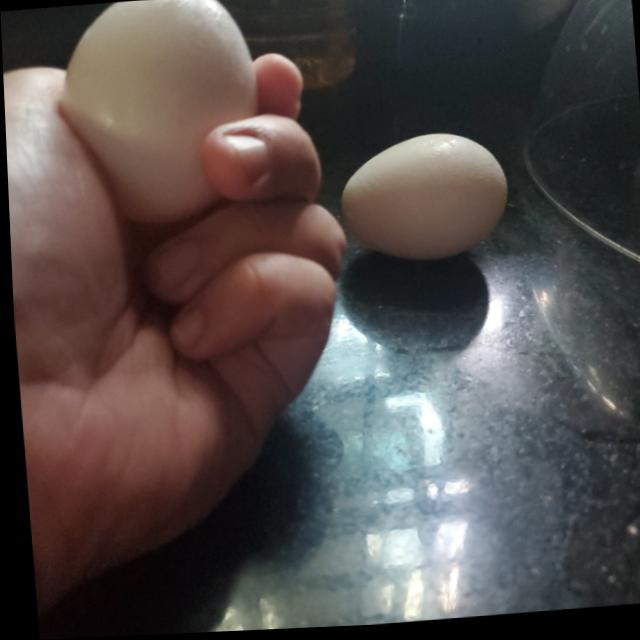egg: (57, 0, 260, 213), (339, 130, 512, 271)
